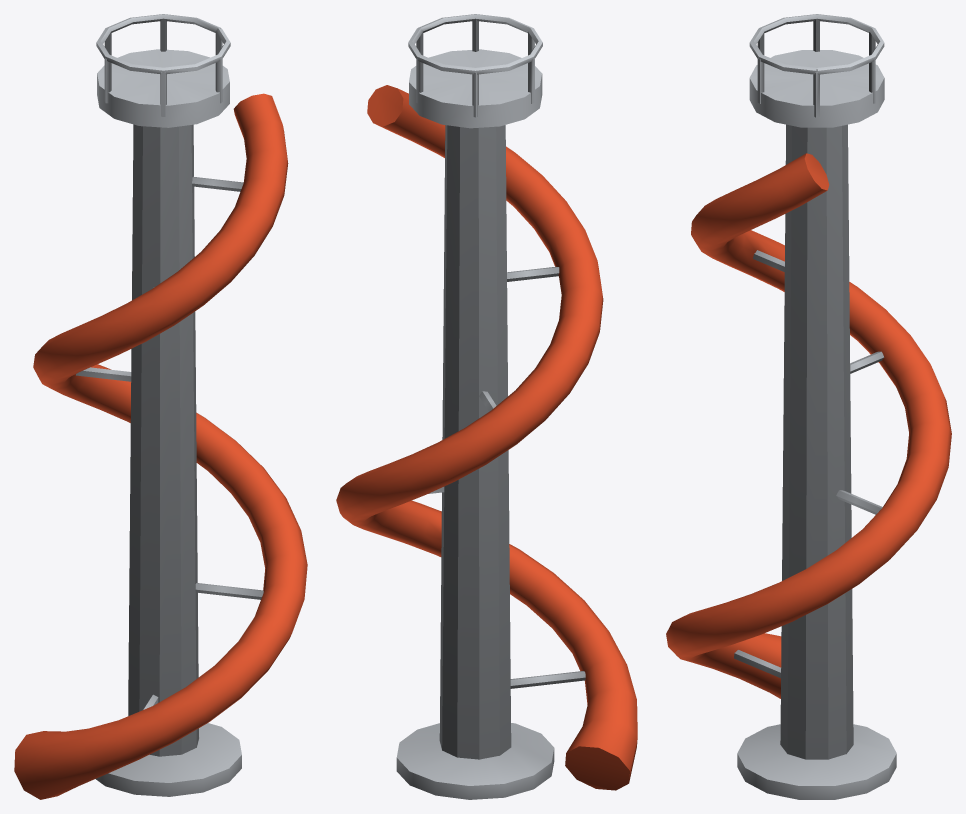
Rendered from waterslide.glb.
3 views of the same model, side by side, from view 1: azimuth 30°, elevation 25°; view 2: azimuth 150°, elevation 25°; view 3: azimuth 270°, elevation 25° (orthographic).
Parts seen in each view (by area): view 1: tower, tube; view 2: tower, tube; view 3: tower, tube.
Part boxes in pixels (bbox=[...]): tower: bbox=[76, 14, 263, 796]; tube: bbox=[14, 93, 307, 799]; tower: bbox=[396, 14, 585, 799]; tube: bbox=[336, 85, 637, 790]; tower: bbox=[734, 14, 896, 799]; tube: bbox=[666, 153, 951, 698].
Size of the model in its own units: 1.03 by 2.61 by 0.9322.
